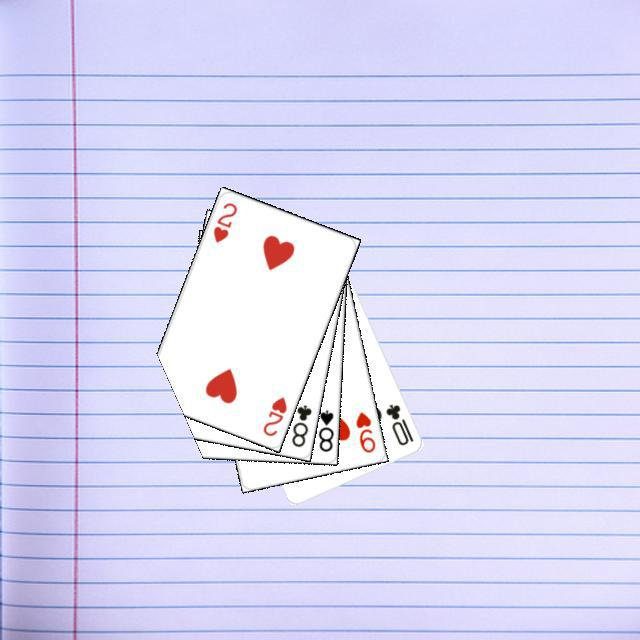10c: (381, 399, 415, 447)
2h: (208, 197, 239, 244), (258, 392, 288, 438)
8c: (287, 400, 313, 449)
8s: (313, 405, 335, 453)
9h: (351, 406, 377, 454)
